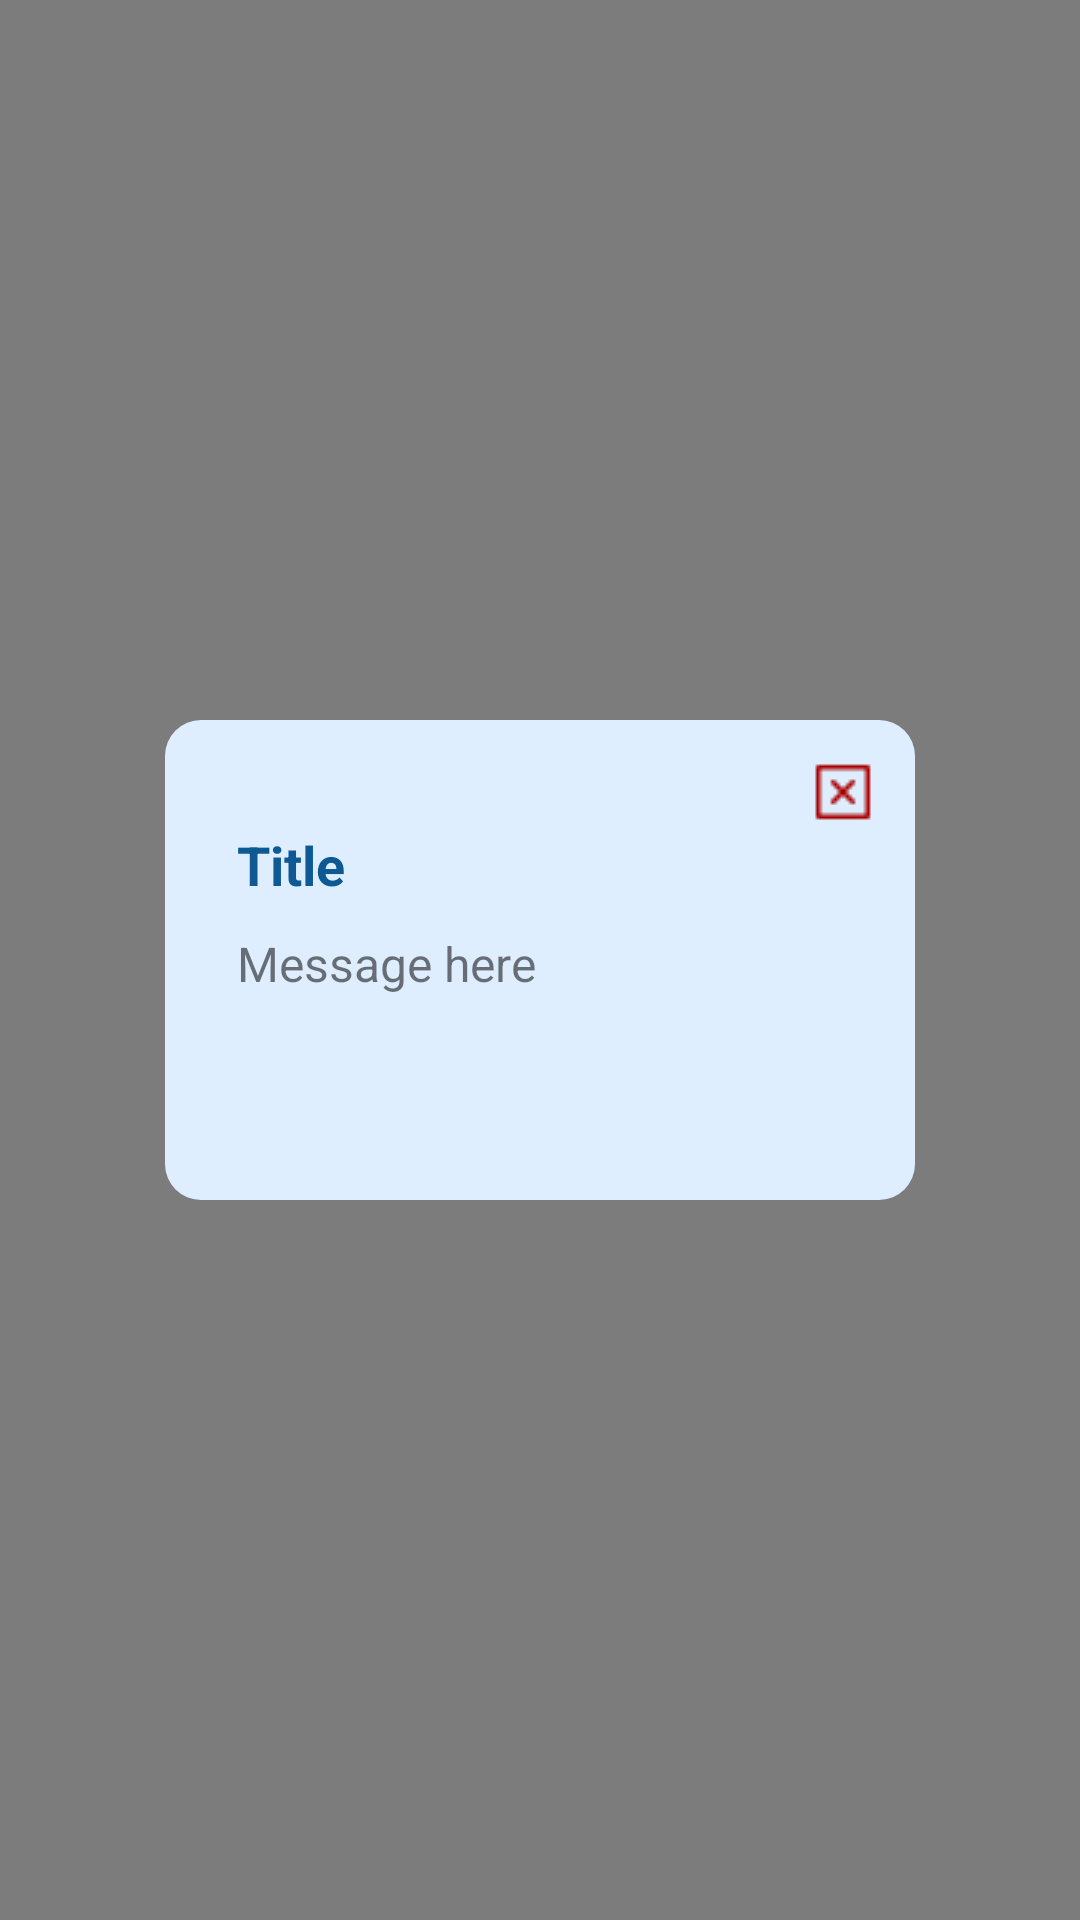

Icon click points for this 1080 × 1920 phone screenshot, format (x=x, y=y):
cross: (x=843, y=792)
